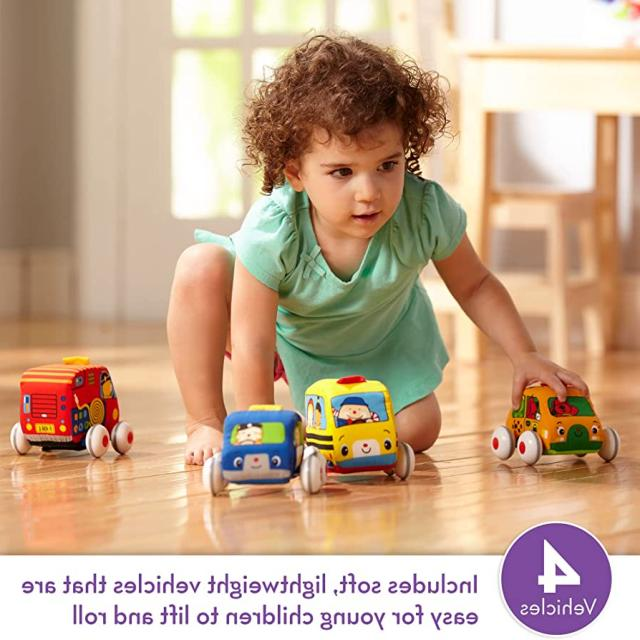child: (167, 36, 599, 466)
